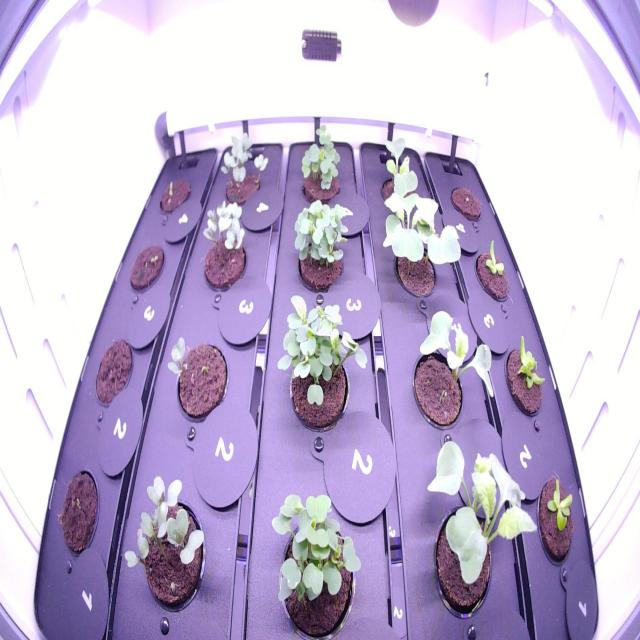germination: (264, 487, 368, 640), (270, 288, 372, 438), (117, 470, 215, 620), (159, 330, 232, 428), (288, 193, 358, 295), (196, 195, 254, 302), (212, 127, 271, 210), (297, 119, 348, 208), (126, 235, 168, 300), (154, 170, 195, 220)
pod: (56, 458, 103, 564), (90, 331, 136, 415), (447, 176, 487, 228)
young: (530, 458, 581, 571), (502, 329, 550, 421), (472, 231, 514, 310)
